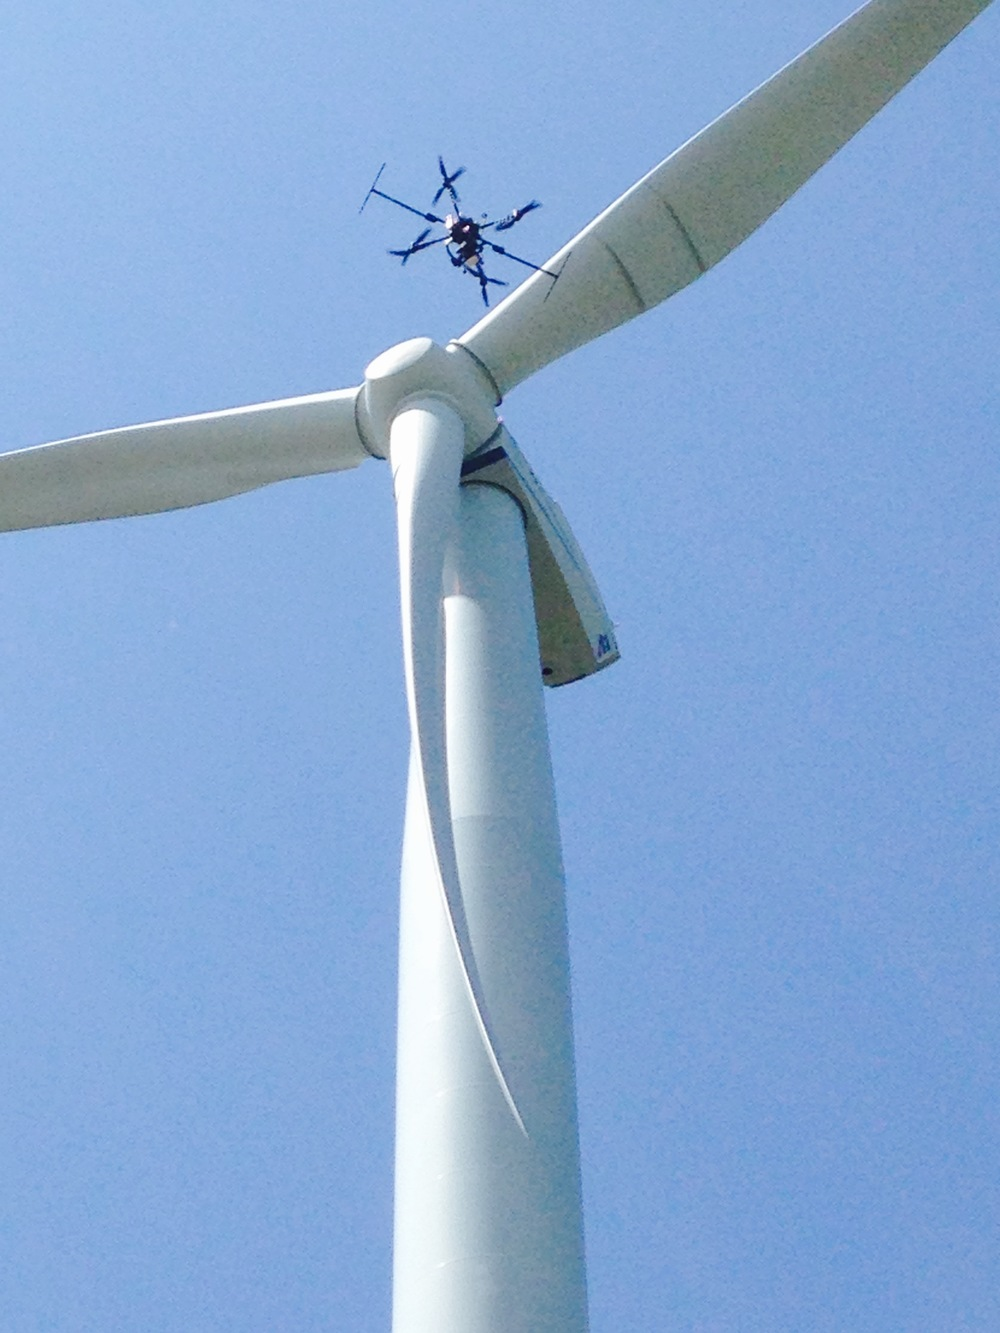drone: (355, 150, 580, 311)
